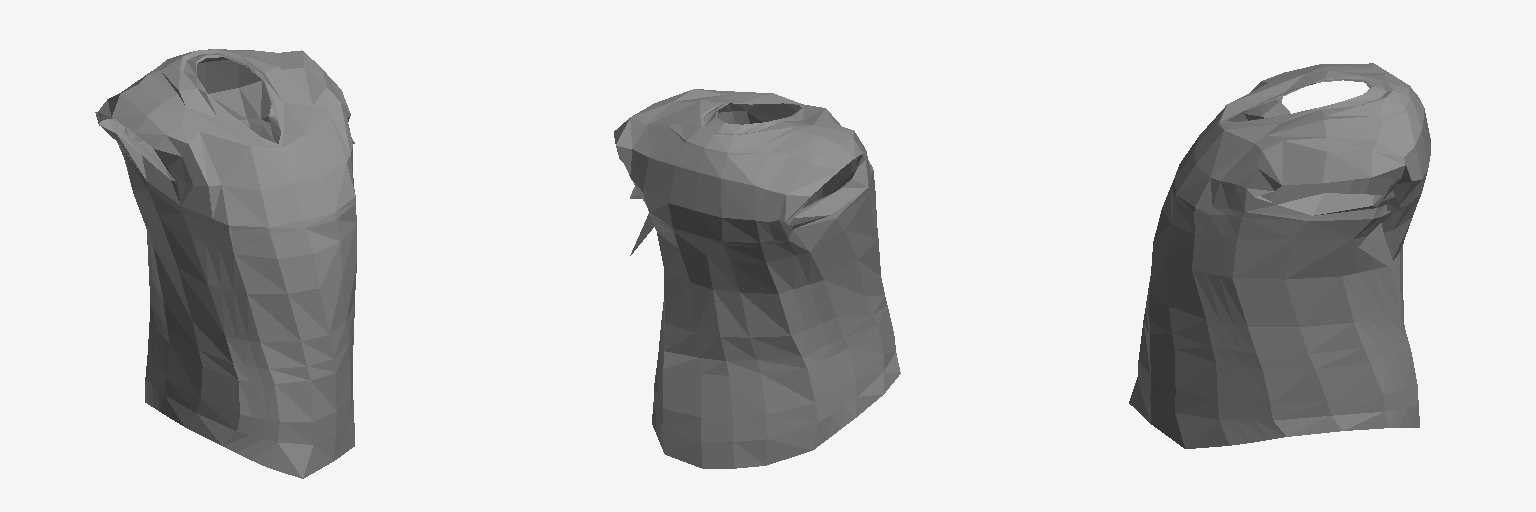
Rendered from dropbody.obj.
3 renders of one model, left to right at view 1: azimuth 30°, elevation 25°; view 2: azimuth 150°, elevation 25°; view 3: azimuth 270°, elevation 25°, orthographic.
Visible parts, largest first — view 1: male01_mesh1_002_mesh1_geometry_male_02_1noCullingID_male_02_1no; view 2: male01_mesh1_002_mesh1_geometry_male_02_1noCullingID_male_02_1no; view 3: male01_mesh1_002_mesh1_geometry_male_02_1noCullingID_male_02_1no.
Part boxes in pixels (x1,y1,x2,y2): male01_mesh1_002_mesh1_geometry_male_02_1noCullingID_male_02_1no: (95,49,356,478); male01_mesh1_002_mesh1_geometry_male_02_1noCullingID_male_02_1no: (614,89,900,468); male01_mesh1_002_mesh1_geometry_male_02_1noCullingID_male_02_1no: (1129,63,1430,448).
Size of the model in its own units: 15.03 by 22.29 by 18.19.